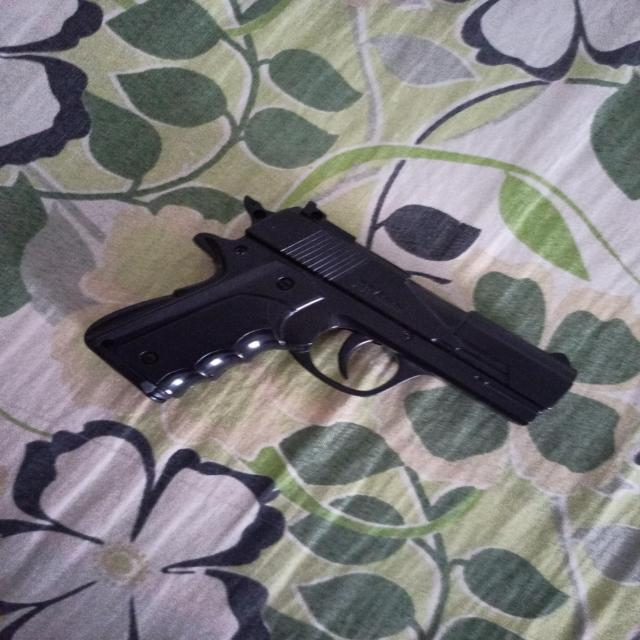handgun: (87, 192, 578, 426)
